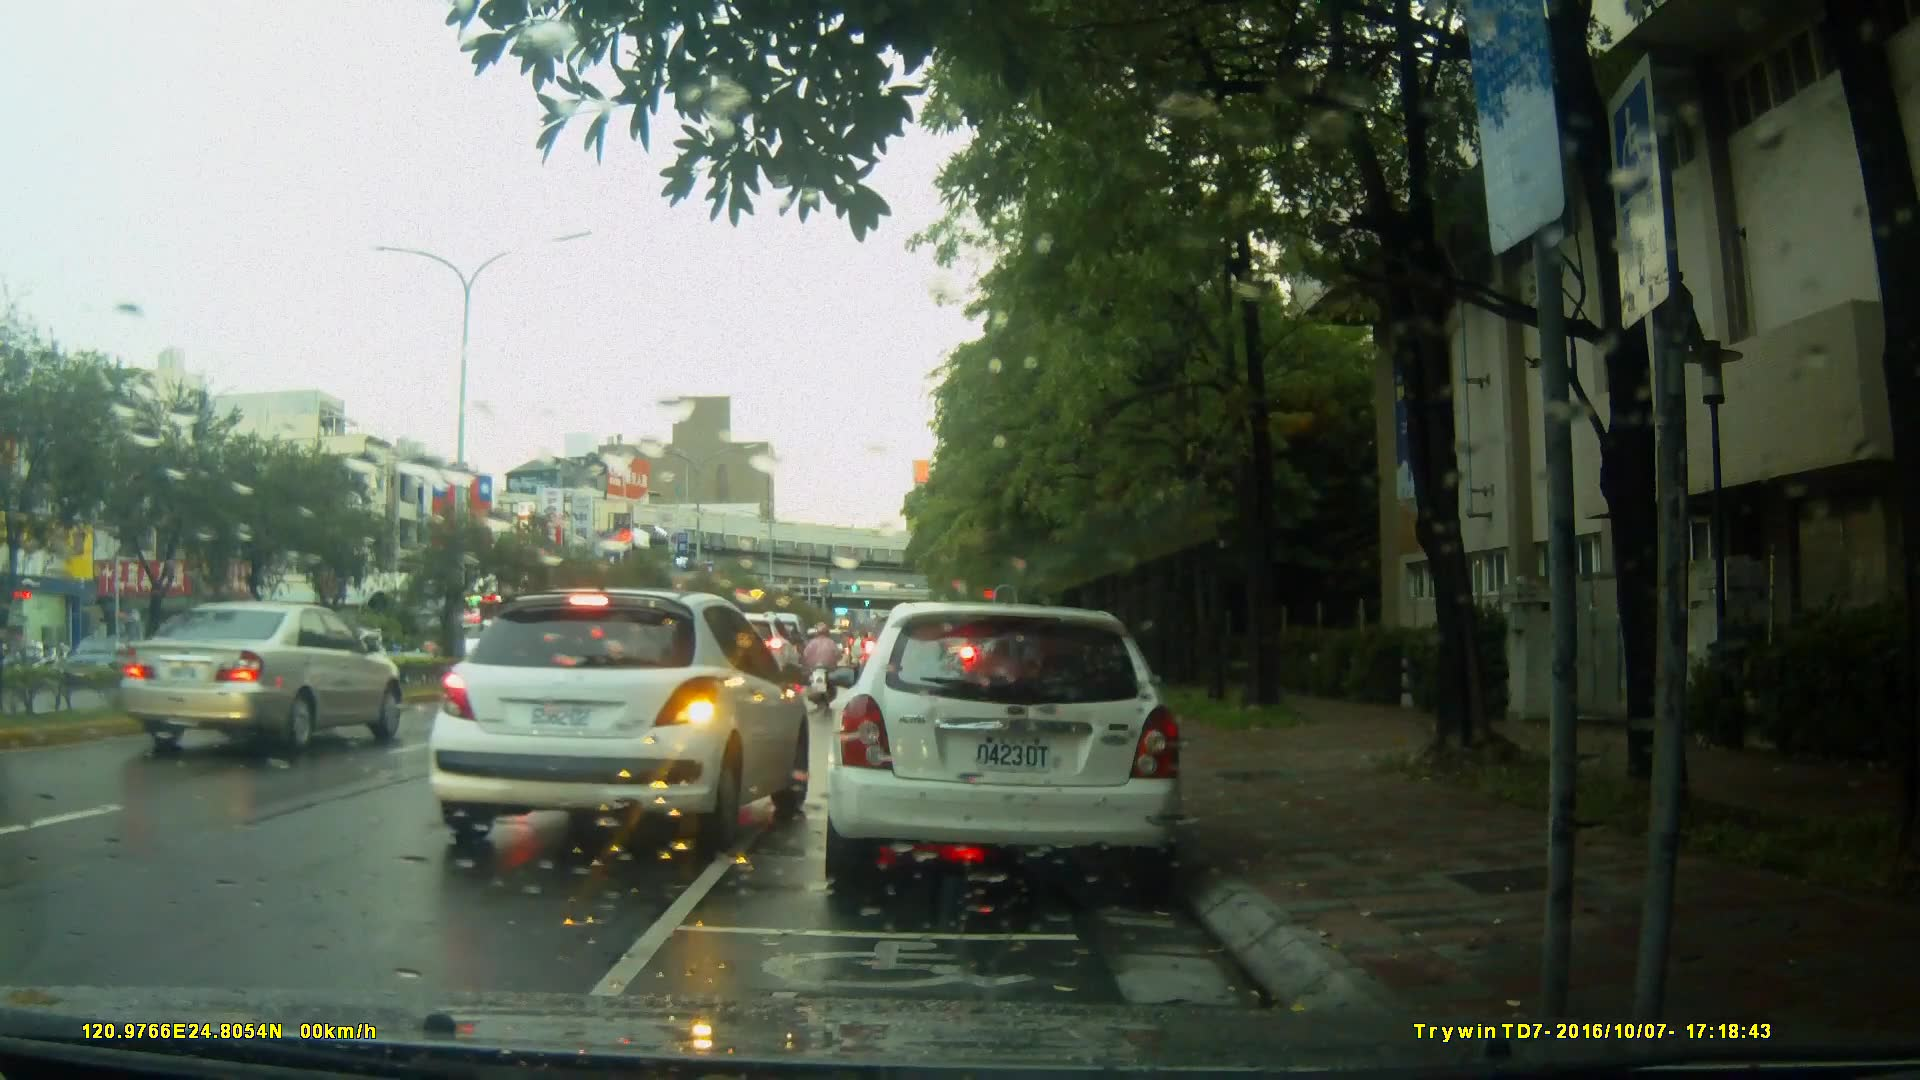rider: (803, 617, 840, 714)
vehicle: (820, 602, 1188, 898), (422, 584, 821, 853), (118, 599, 407, 756), (675, 611, 803, 707)
